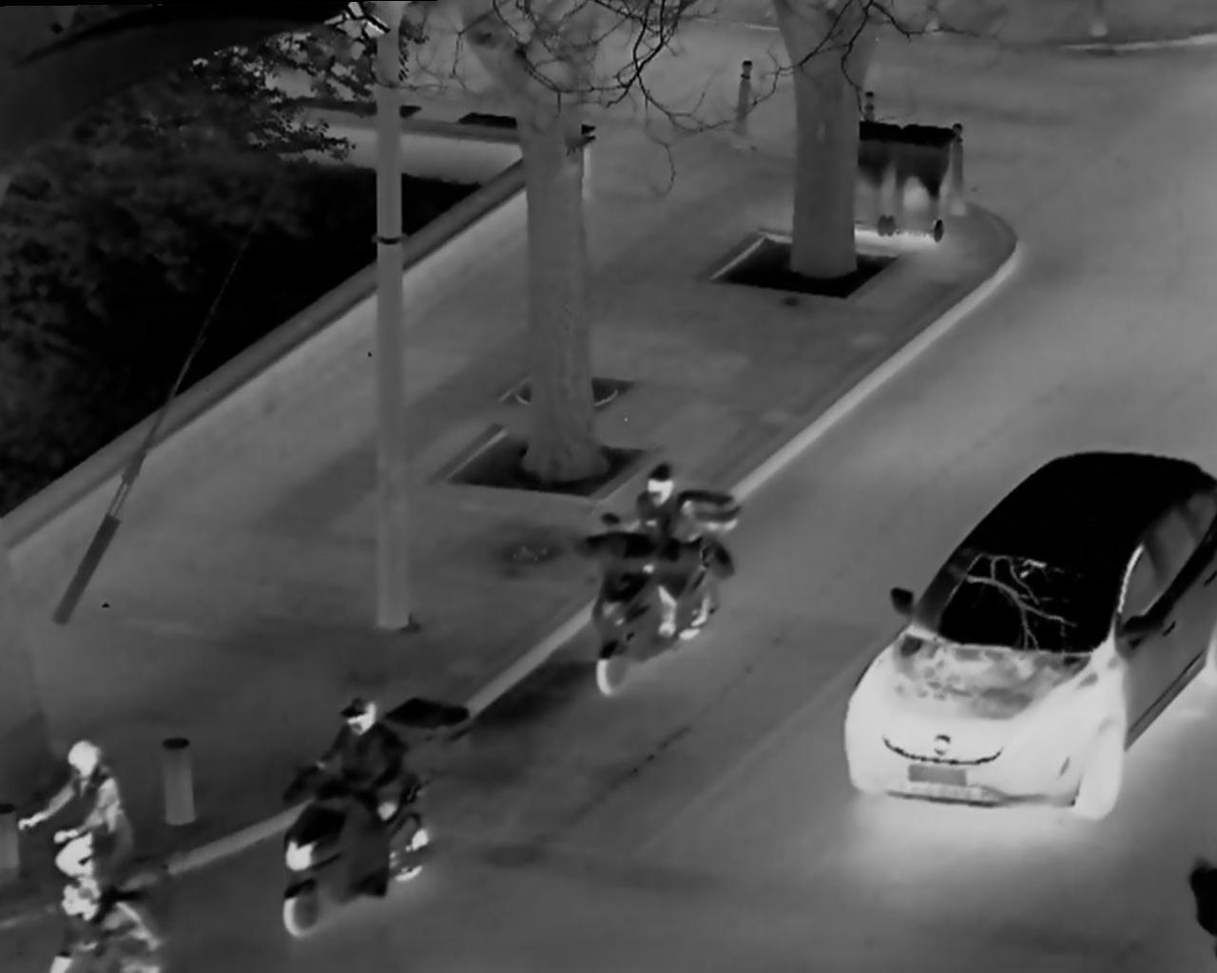person: (585, 437, 721, 681), (278, 692, 421, 905), (20, 724, 146, 881), (34, 871, 165, 973)
